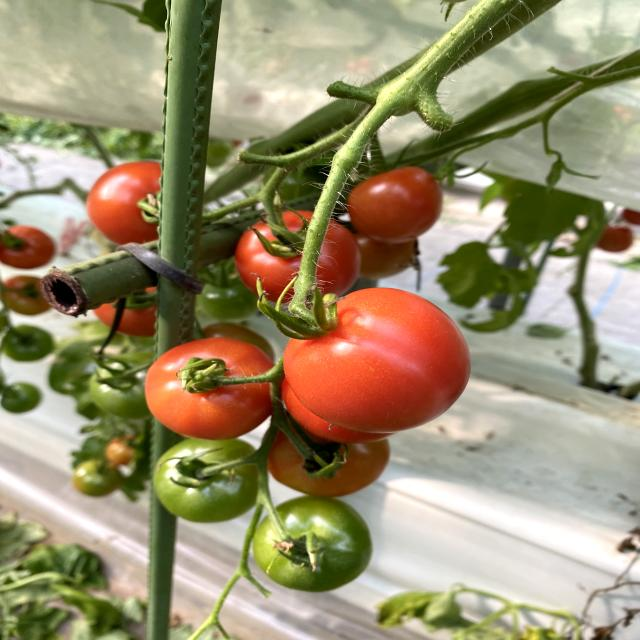ripe0: (254, 495, 374, 592), (150, 438, 261, 523), (350, 165, 439, 242)
ripe2: (283, 287, 471, 433), (145, 337, 278, 440), (87, 160, 160, 244)
